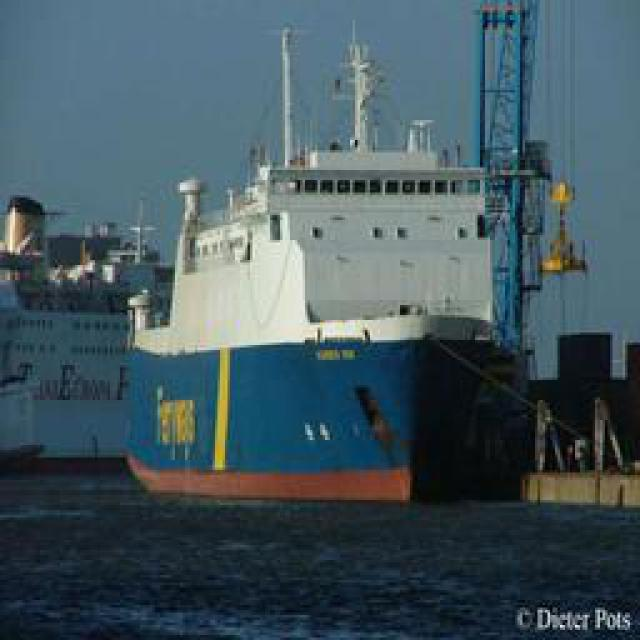Ship: (125, 15, 553, 505)
